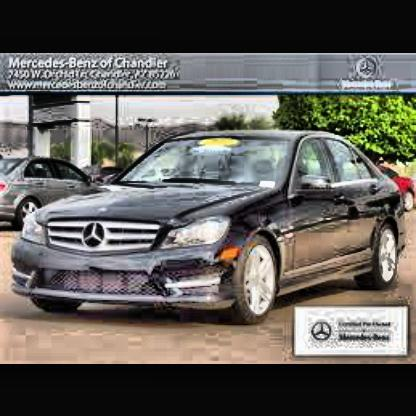Mercedes-Benz C-Class Sedan 2012: (9, 100, 413, 347)
